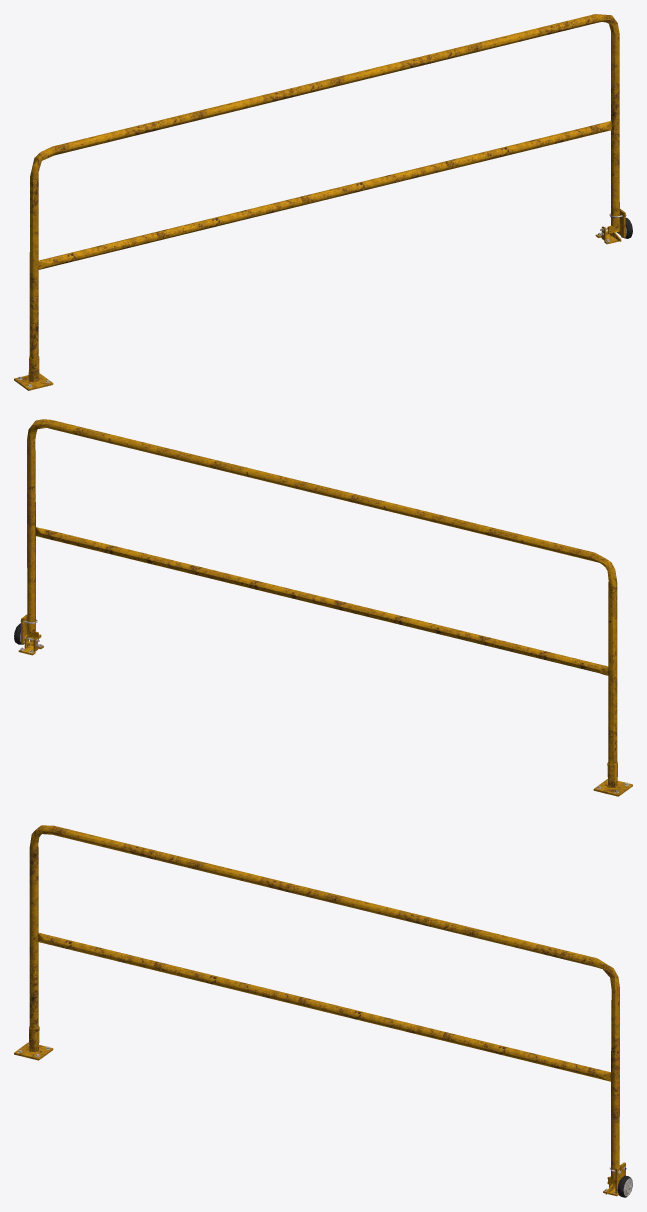
Rendered from dock_edge_rail.glb.
3 renders of one model, top to bottom at view 1: azimuth 30°, elevation 25°; view 2: azimuth 150°, elevation 25°; view 3: azimuth 330°, elevation 25°, orthographic.
Visible parts, largest first — view 1: dock_edge_rail; view 2: dock_edge_rail; view 3: dock_edge_rail.
Part boxes in pixels (x1,y1,x2,y2): dock_edge_rail: (14, 14, 632, 390); dock_edge_rail: (14, 419, 632, 796); dock_edge_rail: (14, 825, 632, 1197).
Size of the model in its own units: 3.16 by 1.14 by 0.1477.
4 materials, 4 textured.
